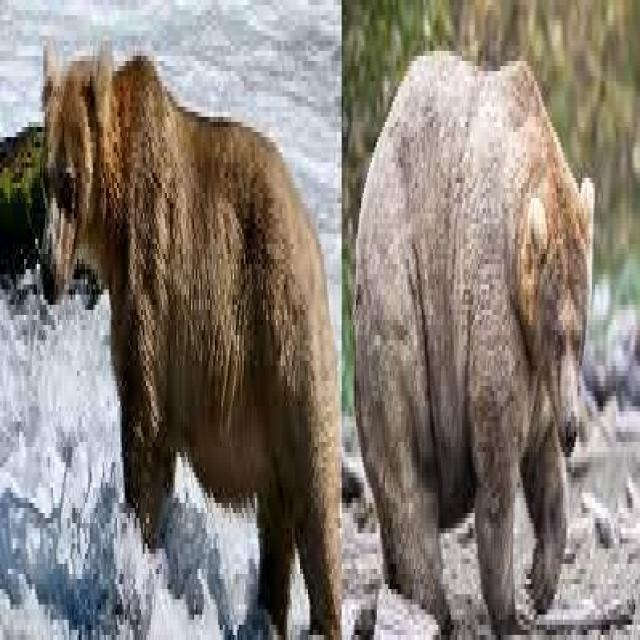Bear: (0, 41, 343, 640), (353, 51, 595, 640)
